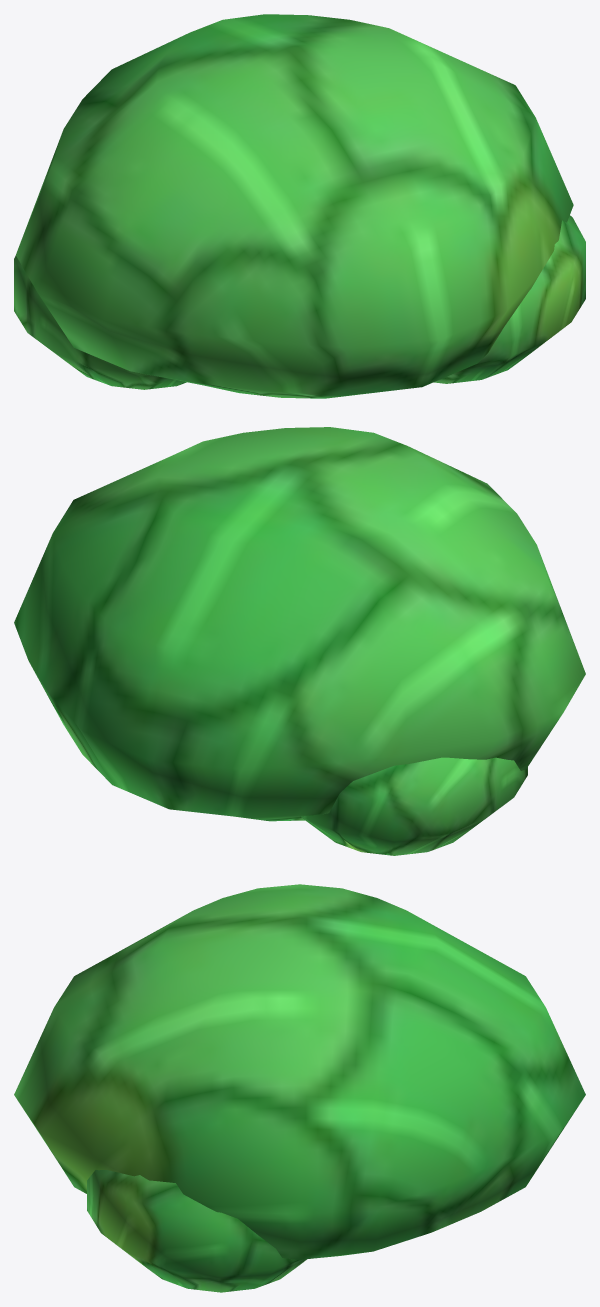
Rendered from bush_0.glb.
The picture shows the model from 3 angles, top to bottom: view 1: azimuth 30°, elevation 25°; view 2: azimuth 150°, elevation 25°; view 3: azimuth 270°, elevation 25°; orthographic projection. The views are drawn at different scales.
Parts seen in each view (by area): view 1: bush_0; view 2: bush_0; view 3: bush_0.
Part boxes in pixels (x1=…): bush_0: x1=14, y1=14, x2=585, y2=398; bush_0: x1=14, y1=427, x2=585, y2=855; bush_0: x1=14, y1=884, x2=585, y2=1292.
Bounding box in the file's own units: 2.54 × 1.48 × 2.54.
Materials: 1 (1 with a texture image).
